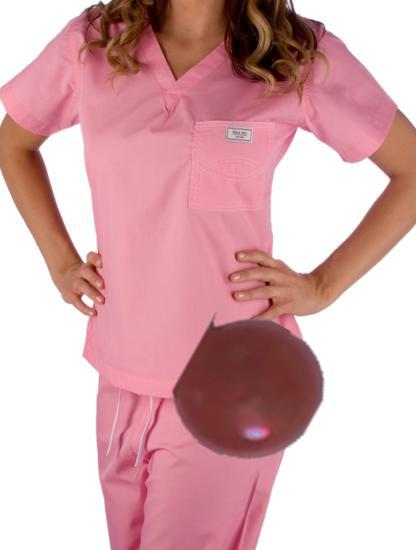Redcurrant: (179, 319, 322, 462)
